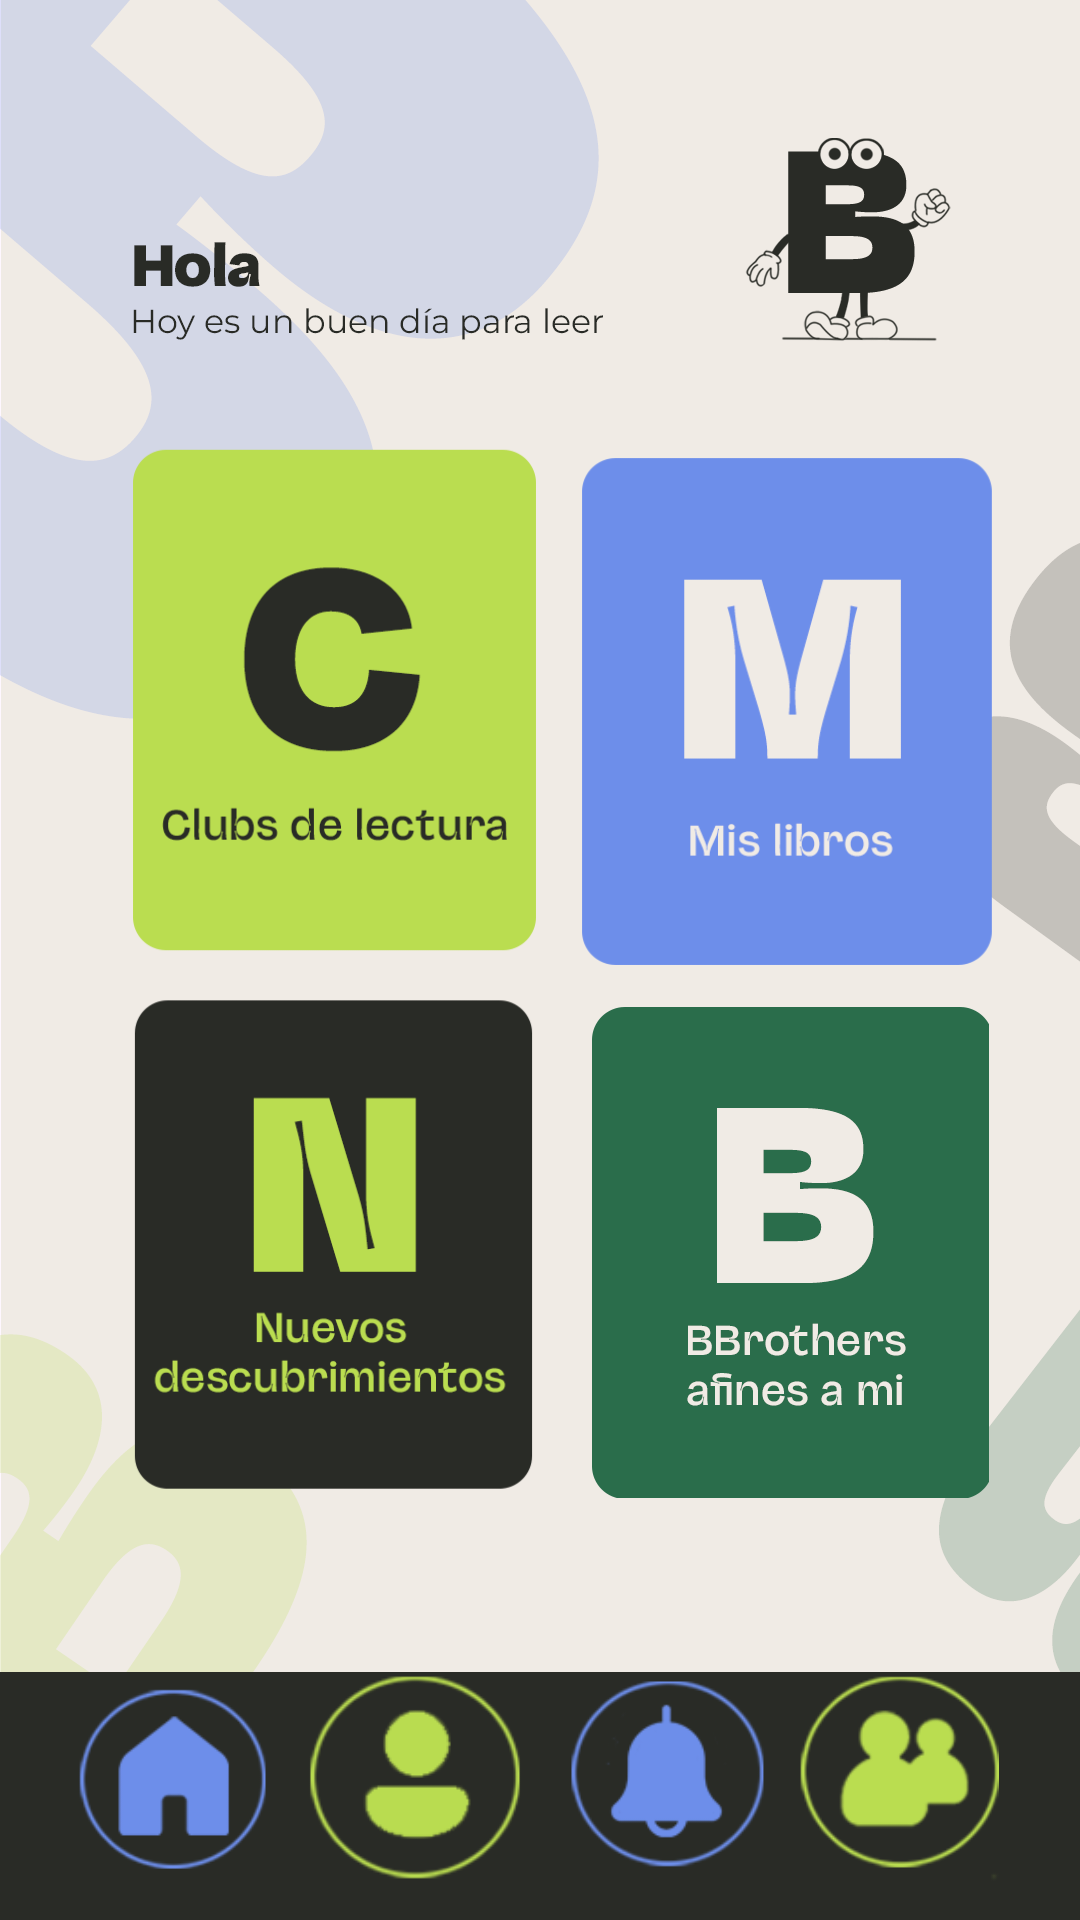

Icon click points for this 1080 × 1920 phone screenshot, format (x,y):
amigos home: (899,1772)
home: (172,1779)
notificaciones home: (667,1774)
perfil home: (415,1777)
